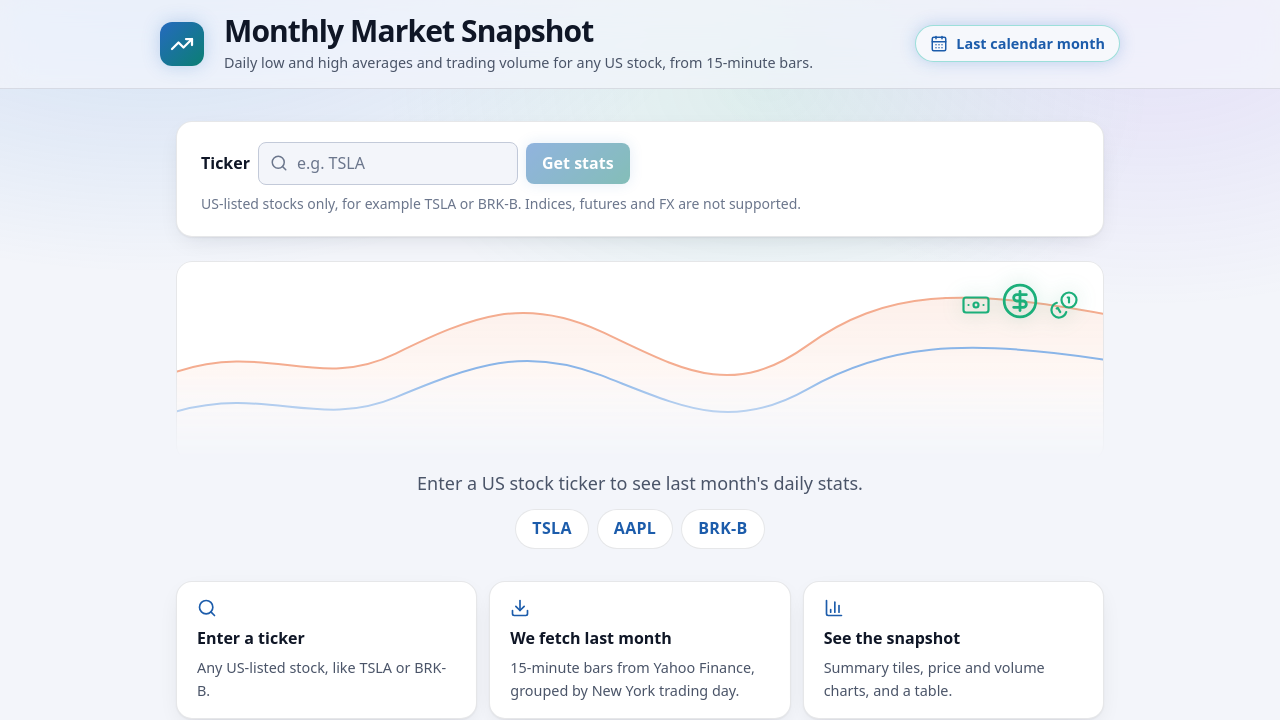
Test: App › shows both charts and the table for a valid ticker
Type "tsla" into the field labelled "Ticker".
click(388, 163); type("tsla")  # box x1=258 y1=142 x2=518 y2=185
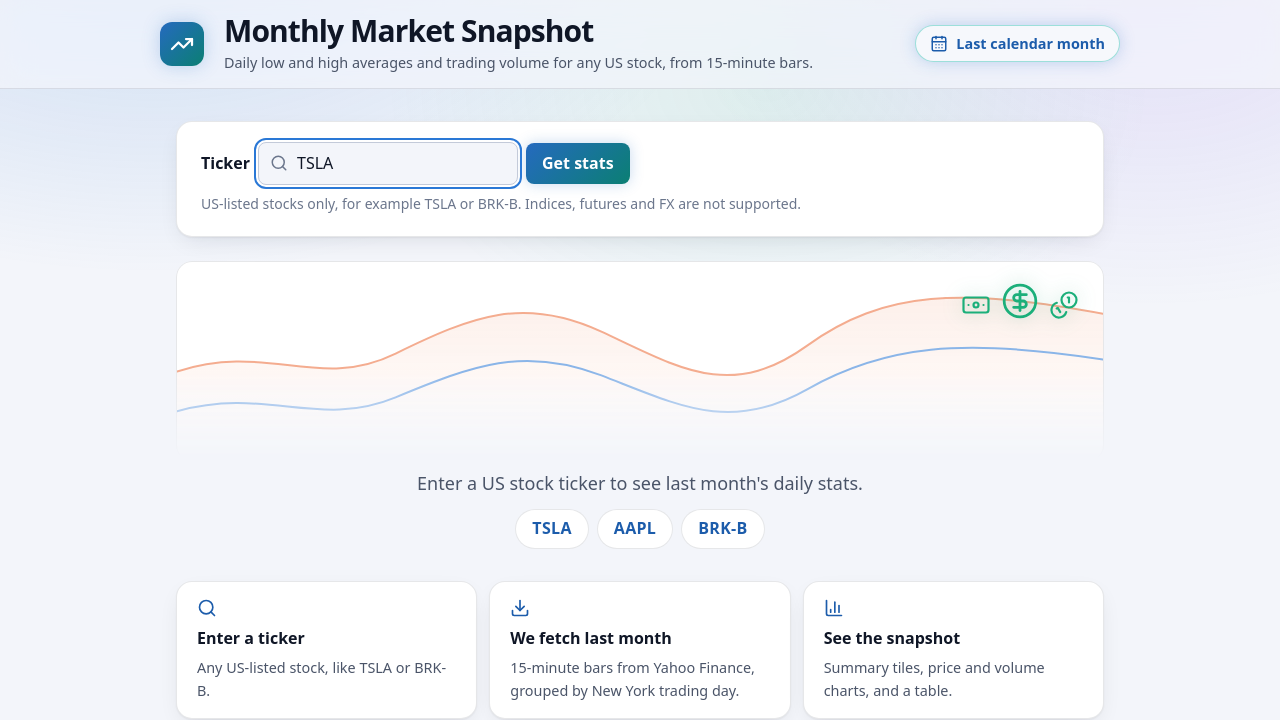
Click the button "Get stats".
click(578, 163)  # box x1=526 y1=142 x2=630 y2=184
(page scrolled)
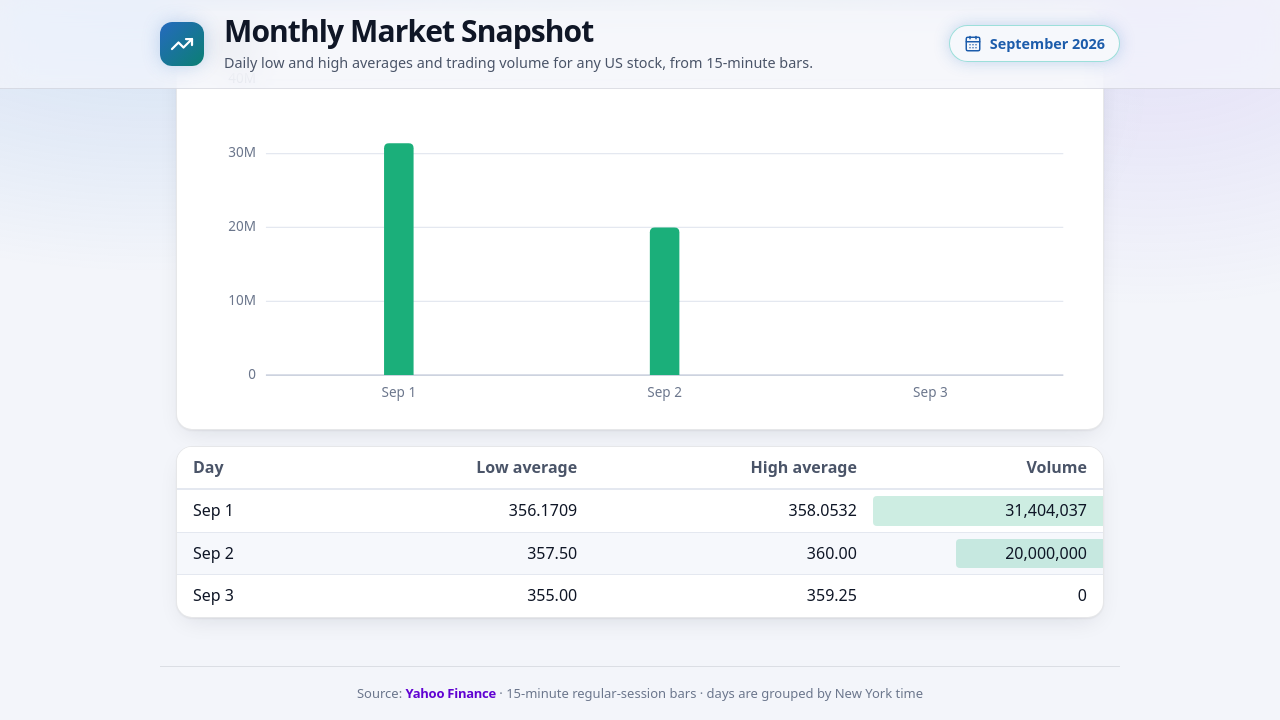
Expected: the picture named "volume" is shown, x1=197 y1=65 x2=1083 y2=409
Expected: the number of rows is 4, x1=177 y1=447 x2=1103 y2=490; x1=177 y1=490 x2=1103 y2=532; x1=177 y1=532 x2=1103 y2=575; x1=177 y1=575 x2=1103 y2=617
Expected: the column heading "Low average" is shown, x1=324 y1=447 x2=593 y2=490
